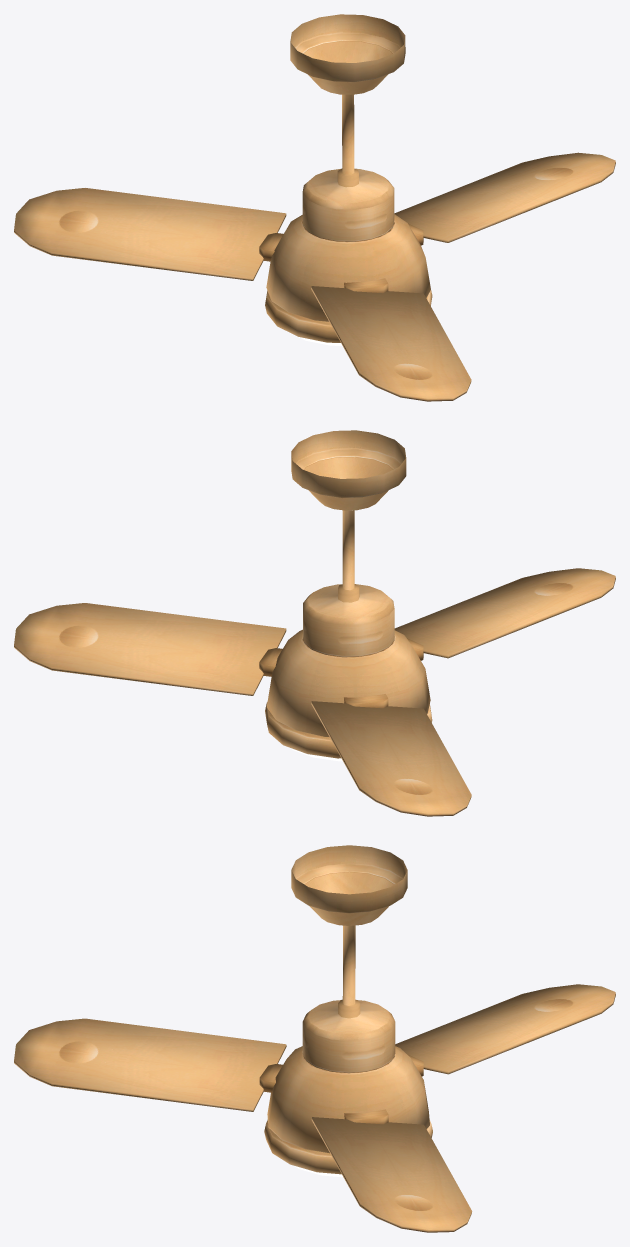
The model's file is fan.fbx.
3 views of the same model, one above another, from view 1: azimuth 30°, elevation 25°; view 2: azimuth 150°, elevation 25°; view 3: azimuth 270°, elevation 25° (orthographic).
Parts seen in each view (by area): view 1: mesh_332.001; view 2: mesh_332.001; view 3: mesh_332.001.
Boxes of the visible parts, bbox=[...] form: mesh_332.001: bbox=[14, 14, 615, 401]; mesh_332.001: bbox=[14, 430, 615, 816]; mesh_332.001: bbox=[14, 845, 615, 1232].
Size of the model in its own units: 58.21 by 31.45 by 59.09.
Materials: 1 (1 with a texture image).
